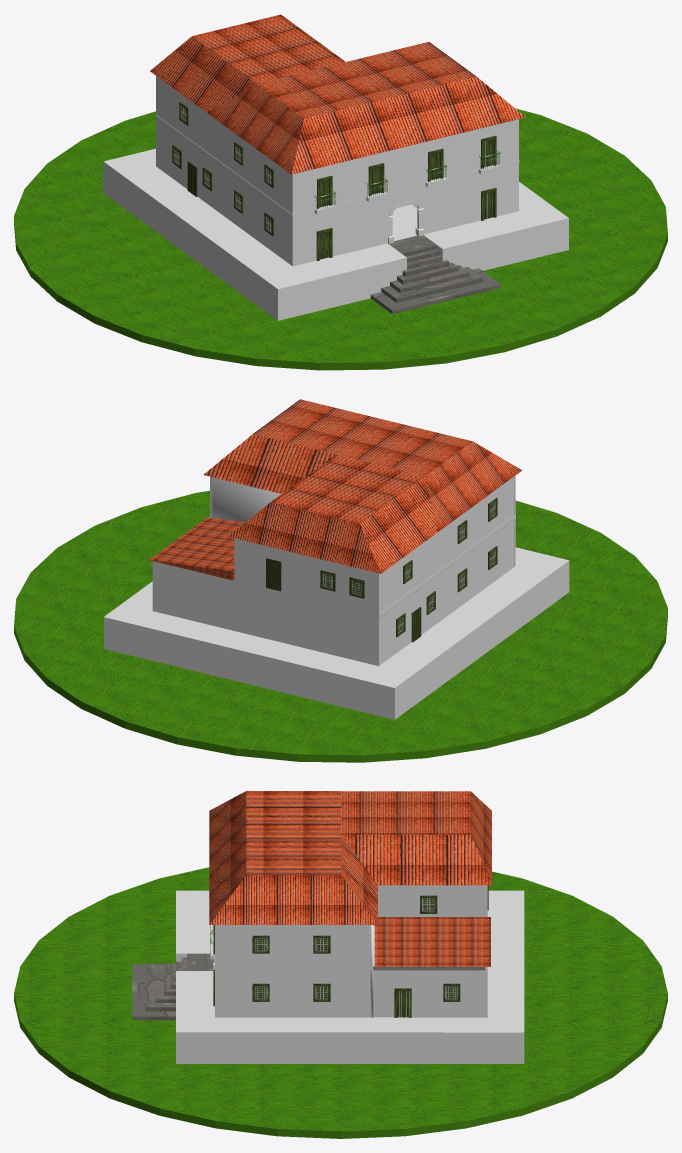
The model's file is trabalho_v28.fbx.
3 views of the same model, one above another, from view 1: azimuth 30°, elevation 25°; view 2: azimuth 150°, elevation 25°; view 3: azimuth 270°, elevation 25° (orthographic).
Visible parts, largest first — view 1: Cylinder, Cube.032, frente, Cube.004, Plane, Cube.038, Cube.083, Cube.026, Cube.029; view 2: Cylinder, Cube.032, Cube.004, tras1, Plane, Cube.038, Cube.047, Cube.005, Cube.040, Cube.029; view 3: Cylinder, Cube.032, Plane, direita1, Cube.004, Cube.005, direita2, Cube.042, Cube.083, Cube.031, portinha.003.
Part boxes in pixels (box(x1,y1,x2,y2)): Cylinder: box(14, 108, 667, 370); Cube.032: box(150, 14, 525, 174); frente: box(291, 119, 518, 266); Cube.004: box(103, 161, 568, 320); Plane: box(104, 148, 568, 288); Cube.038: box(157, 77, 291, 264); Cube.083: box(370, 235, 500, 314); Cube.026: box(293, 159, 518, 218); Cube.029: box(156, 115, 292, 218); Cylinder: box(14, 490, 667, 762); Cube.032: box(203, 399, 521, 573); Cube.004: box(104, 561, 569, 719); tras1: box(234, 538, 380, 666); Plane: box(104, 547, 568, 687); Cube.038: box(380, 477, 513, 664); Cube.047: box(152, 561, 234, 630); Cube.005: box(149, 517, 244, 580); Cube.040: box(212, 477, 280, 522); Cube.029: box(379, 514, 515, 618); Cylinder: box(14, 867, 667, 1138); Cube.032: box(209, 791, 491, 924); Plane: box(176, 890, 524, 1032); direita1: box(215, 925, 370, 1017); Cube.004: box(176, 953, 524, 1063); Cube.005: box(374, 917, 490, 966); direita2: box(373, 965, 484, 1017); Cube.042: box(373, 885, 484, 926); Cube.083: box(132, 953, 214, 1020); Cube.031: box(214, 966, 373, 969); portinha.003: box(394, 988, 411, 1017).
Size of the model in its own units: 4000 by 1138 by 4000.
Materials: 11 (7 with a texture image).
